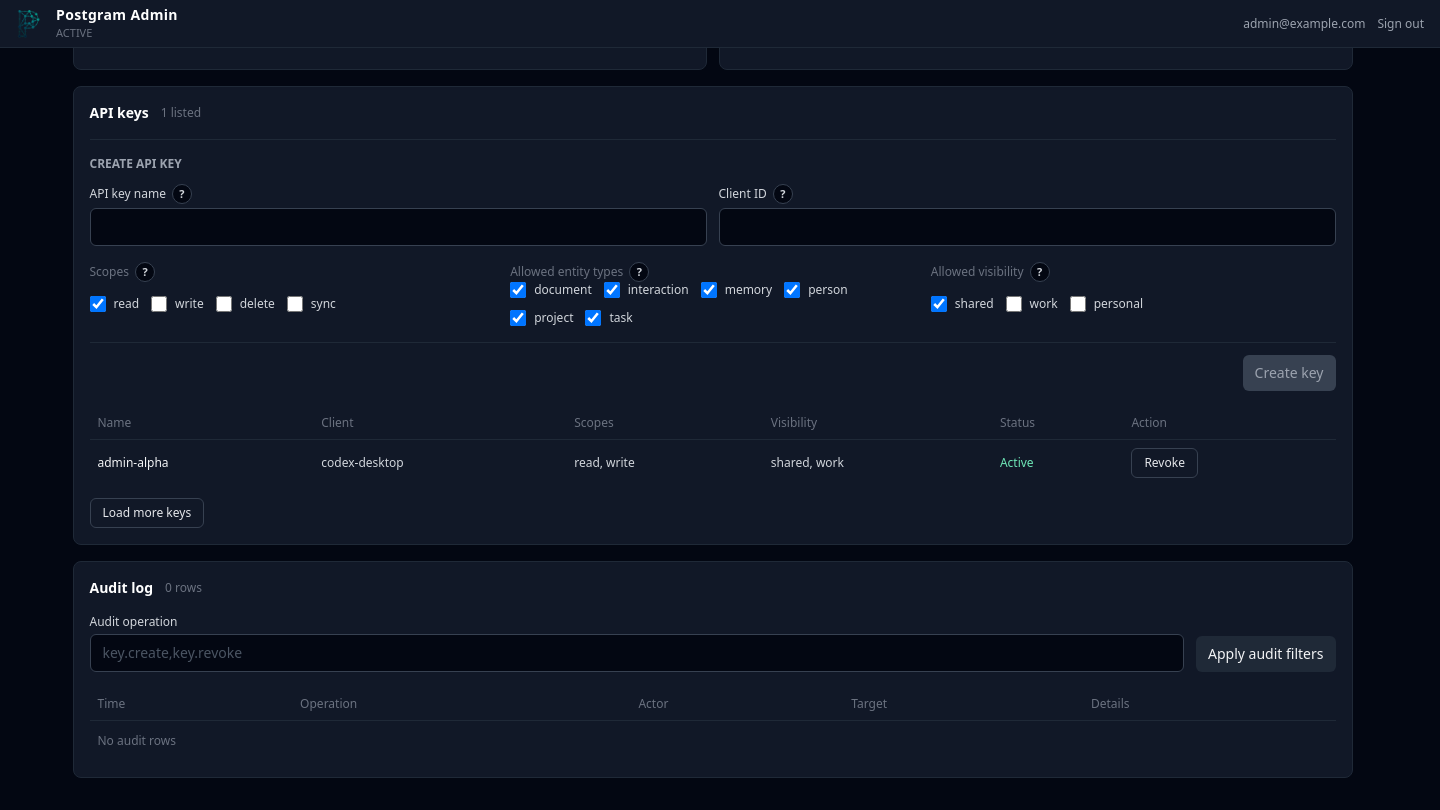
Admin operations dashboard › loads another API-key page before revoking keys outside the first page
(page scrolled)
expect the text "admin-alpha" is shown: met, box [90,439,313,486]
Click the button "Load more keys" at [147, 512], box [90,498,204,528]
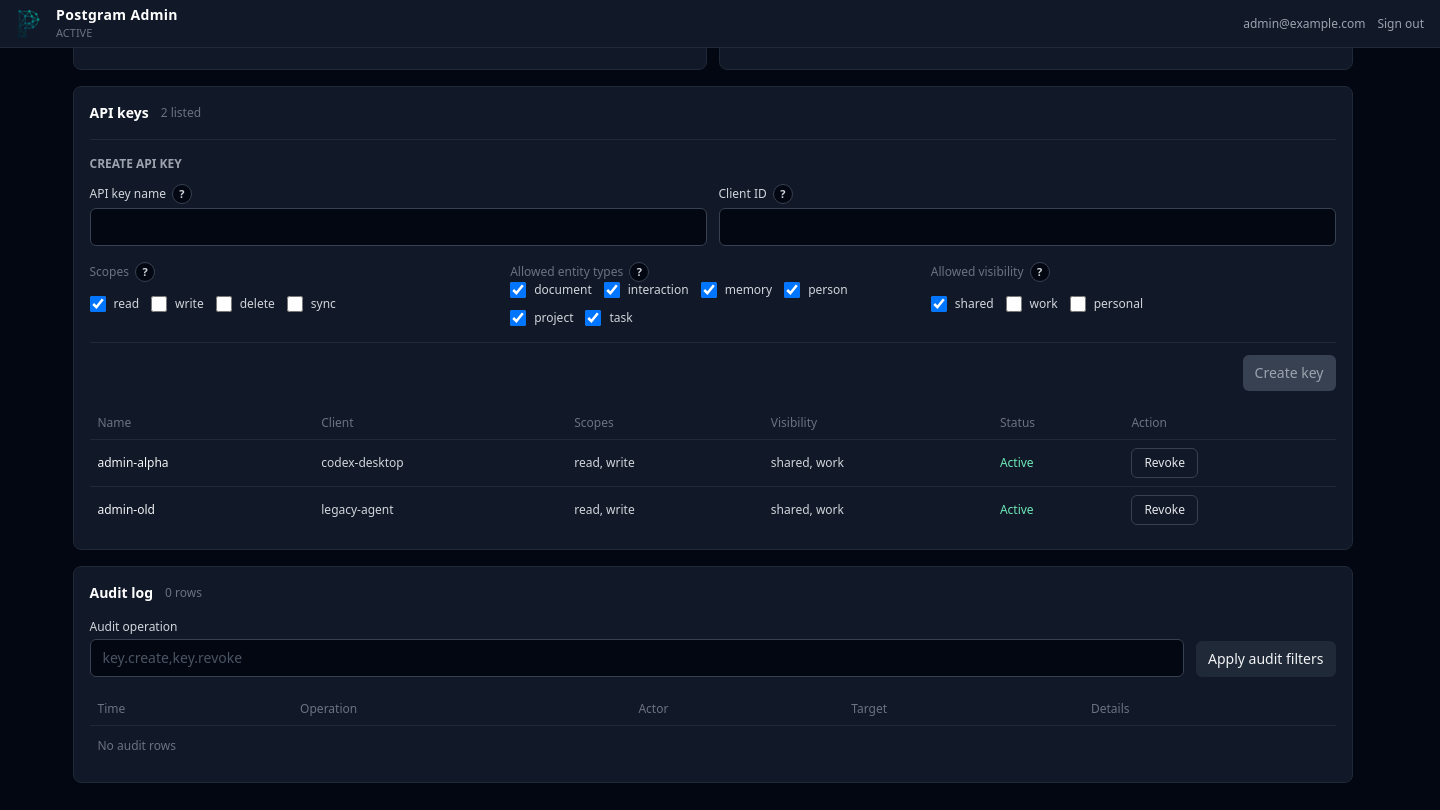
expect the text "admin-old" is shown: met, box [90,486,313,532]
Click the button with aria-label "Revoke admin-old" at [1165, 510], box [1131,494,1198,524]
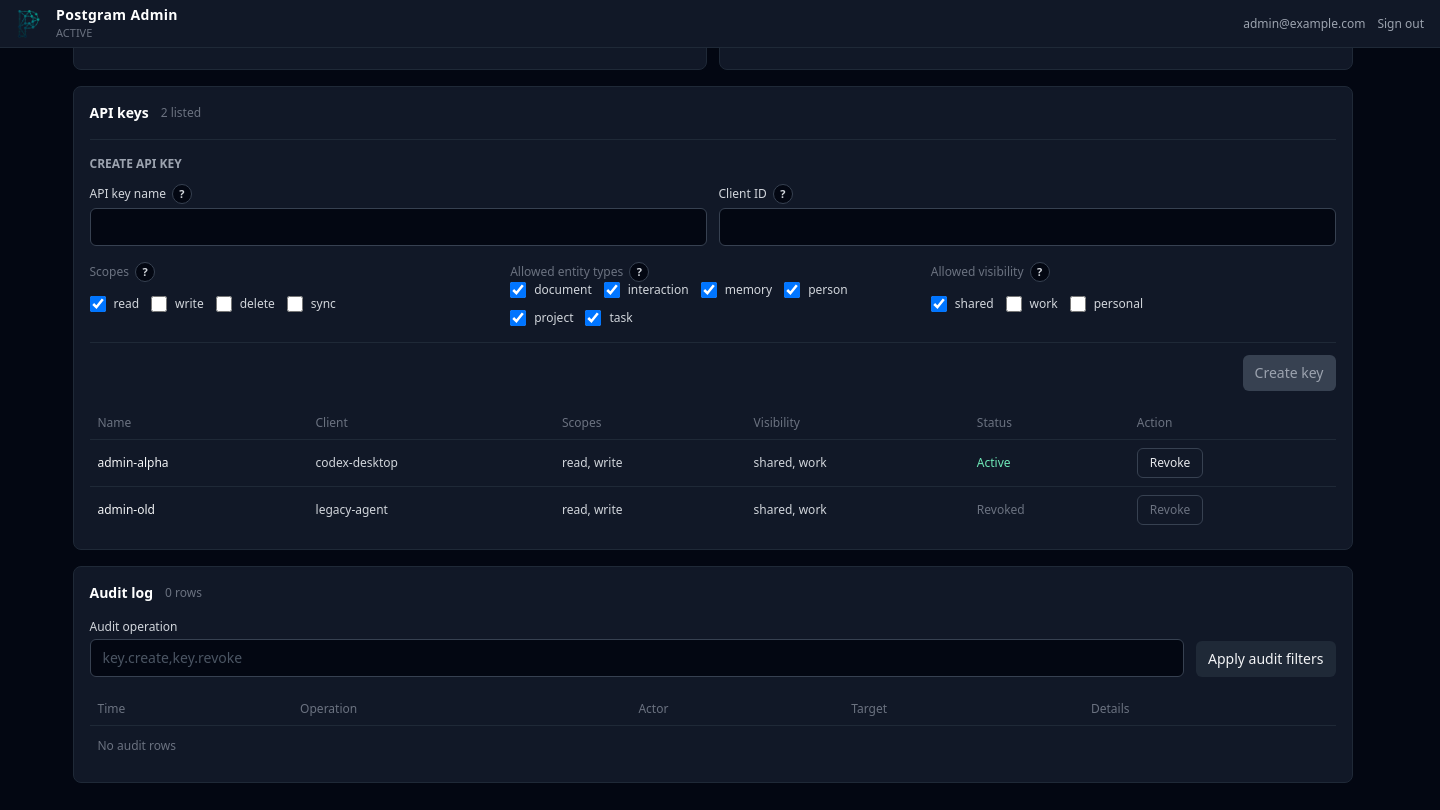
expect the button "Load more keys" is not shown: met
expect the text "Revoked" is shown: met, box [977,500,1025,518]
